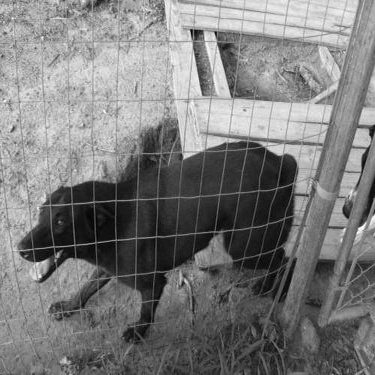dog: (14, 117, 309, 346), (336, 117, 372, 231)
